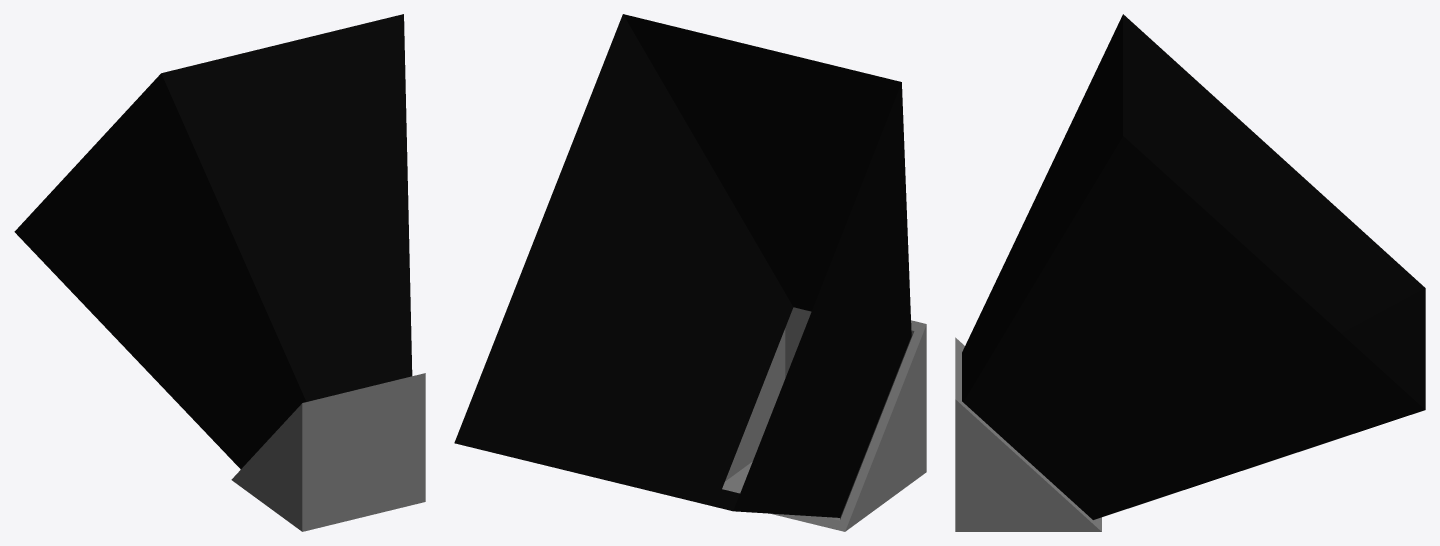
The model's file is Light_Deng3_1X1_on.FBX.
The picture shows the model from 3 angles, left to right: view 1: azimuth 30°, elevation 25°; view 2: azimuth 150°, elevation 25°; view 3: azimuth 270°, elevation 25°; orthographic projection. The views are drawn at different scales.
Visible parts, largest first — view 1: Box002; view 2: Box002; view 3: Box002.
Boxes of the visible parts, x1,y1,x2,y2 form: Box002: (14,14,425,531); Box002: (454,14,926,531); Box002: (955,14,1425,531).
Bounding box in the file's own units: 1.97 × 3.21 × 3.21.
